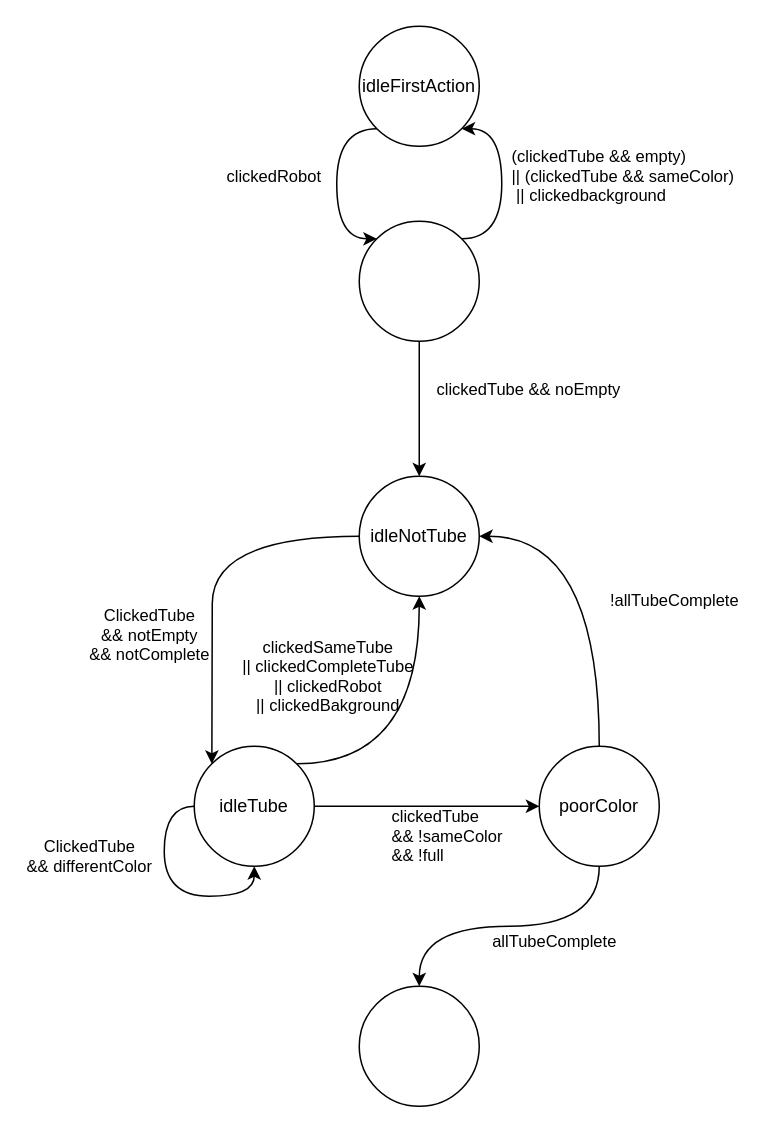
The diagram is 764 pixels wide and 1133 high, and some of its shapes have lost their labels. Here are the shapes that lost their labels. From the top down, the box of each, then its label:
(358, 220, 479, 341): idleRobot
(358, 985, 479, 1106): endLevel
